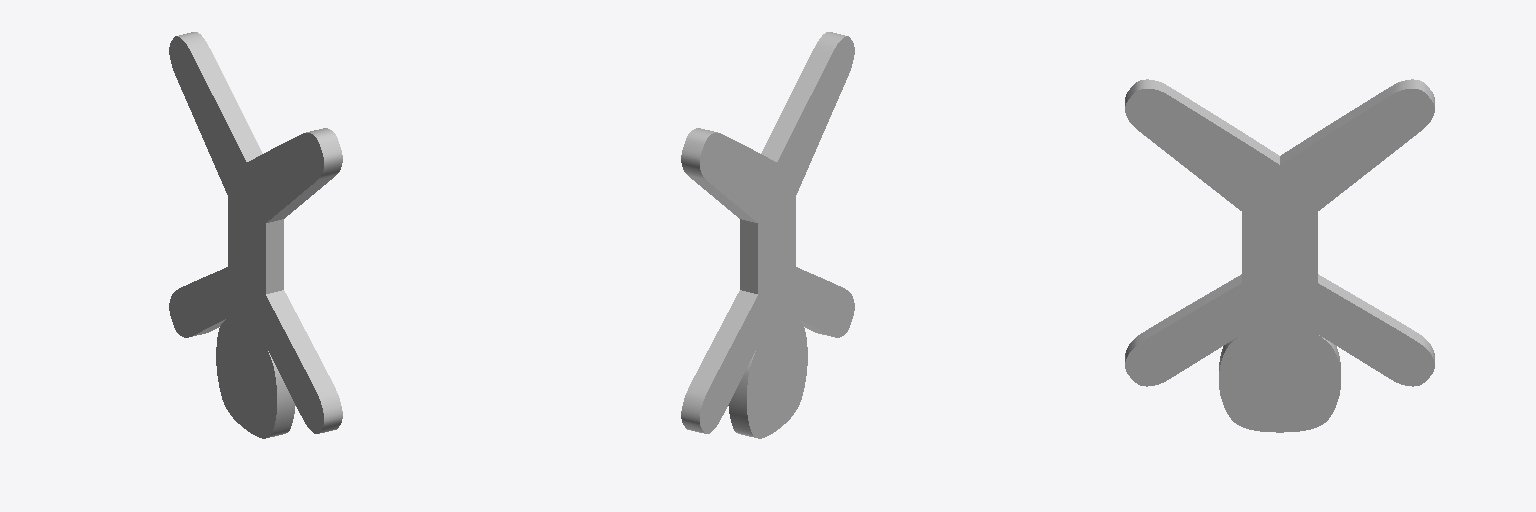
Rendered from guy.obj.
3 views of the same model, side by side, from view 1: azimuth 30°, elevation 25°; view 2: azimuth 150°, elevation 25°; view 3: azimuth 270°, elevation 25° (orthographic).
Parts seen in each view (by area): view 1: Cube; view 2: Cube; view 3: Cube.
Boxes of the visible parts, <box> form: Cube: <box>169,32,342,438</box>; Cube: <box>681,32,854,438</box>; Cube: <box>1125,79,1434,432</box>.
Size of the model in its own units: 0.5683 by 10.07 by 8.22.